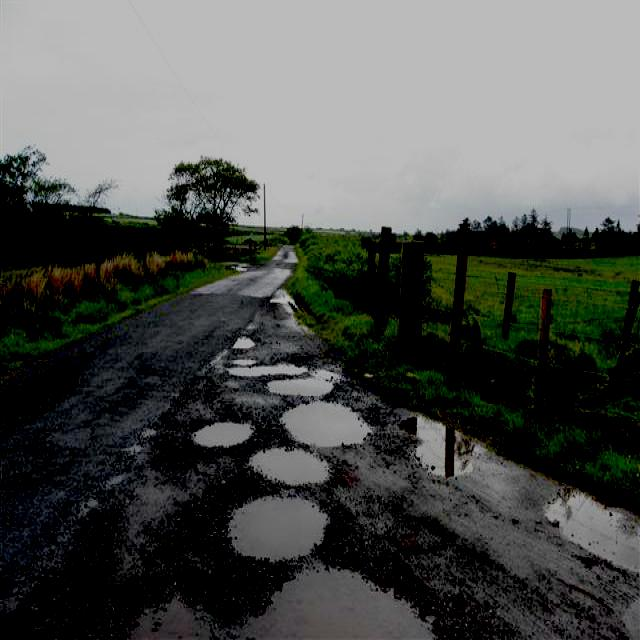Pothole: (62, 341, 640, 640)
